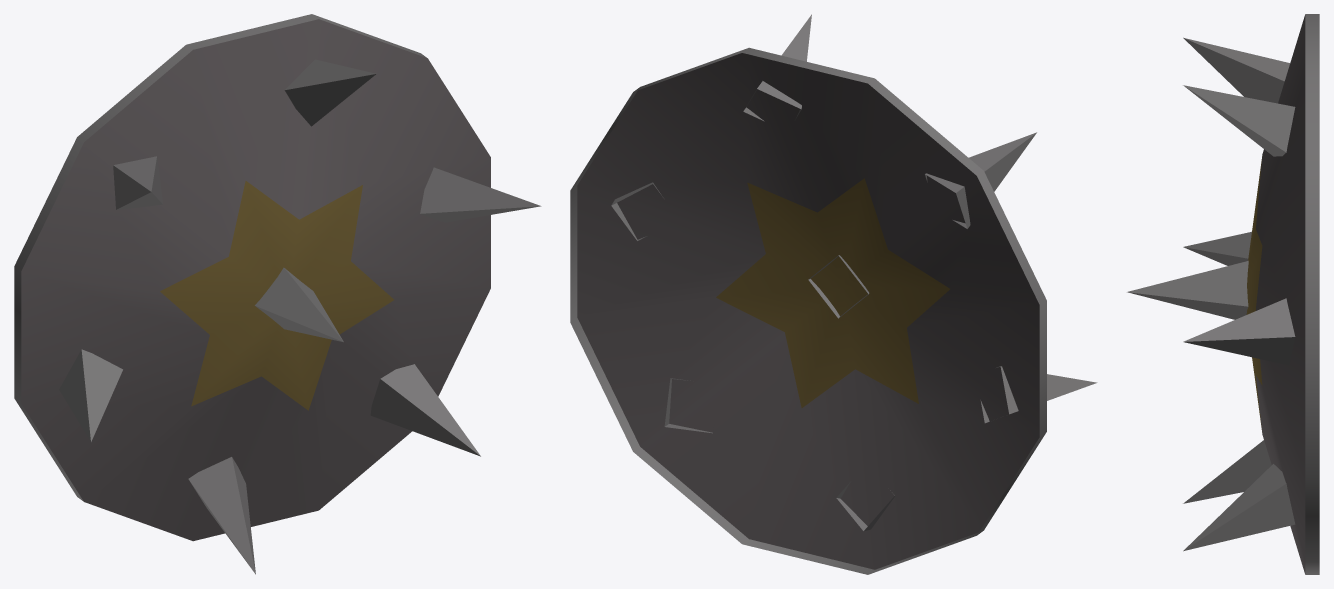
The model's file is lantern-shield.glb.
3 views of the same model, side by side, from view 1: azimuth 30°, elevation 25°; view 2: azimuth 150°, elevation 25°; view 3: azimuth 270°, elevation 25° (orthographic).
Parts seen in each view (by area): view 1: SpikeShield; view 2: SpikeShield; view 3: SpikeShield.
Part boxes in pixels (bbox=[...]): SpikeShield: bbox=[14, 14, 541, 574]; SpikeShield: bbox=[570, 14, 1097, 574]; SpikeShield: bbox=[1127, 14, 1319, 574].
Bounding box in the file's own units: 0.33 × 0.33 × 0.1158.
